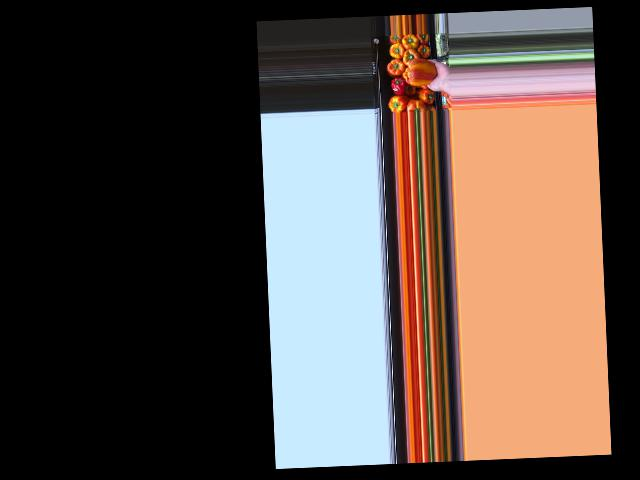bell_pepper: (418, 87, 433, 106)
